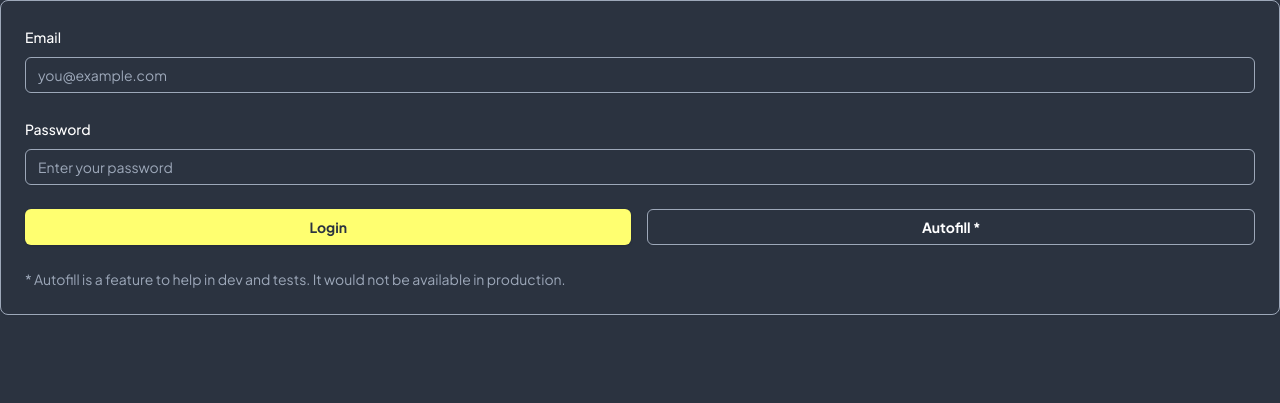
Test: LoginForm › displays generic API error message if no specific message from backend
This screenshot has width=1280, height=403.
Step 1. Type "wrong@example.com" into the field labelled "Email" → (640, 75), box [25, 57, 1255, 93]
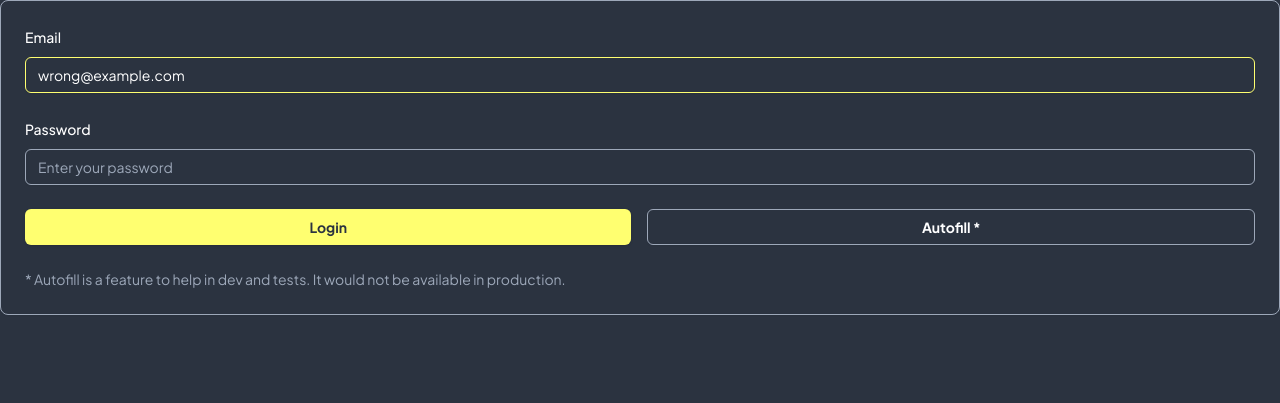
Step 2. Type "wrongpassword" into the password field labelled "Password" → (640, 167), box [25, 149, 1255, 185]
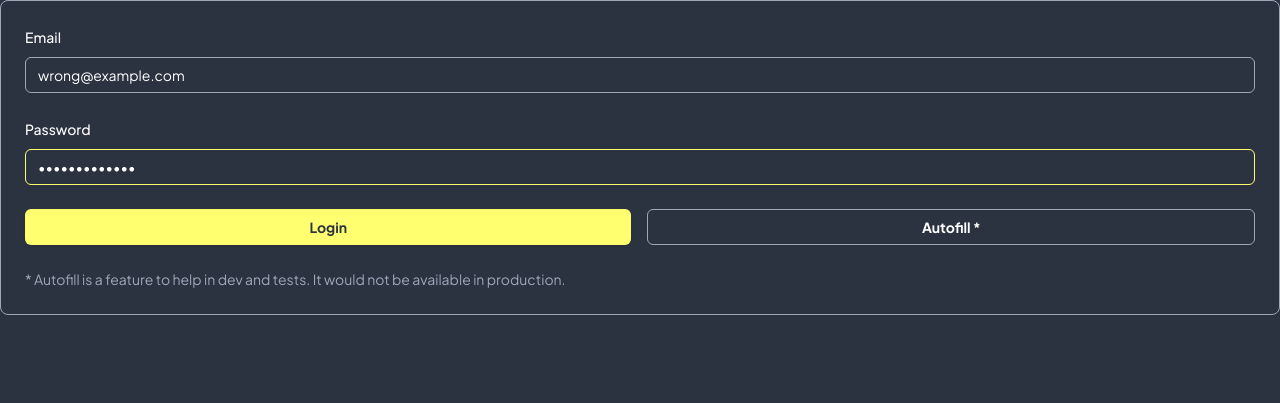
Step 3. Click the button "Login" → (328, 227), box [25, 209, 632, 245]
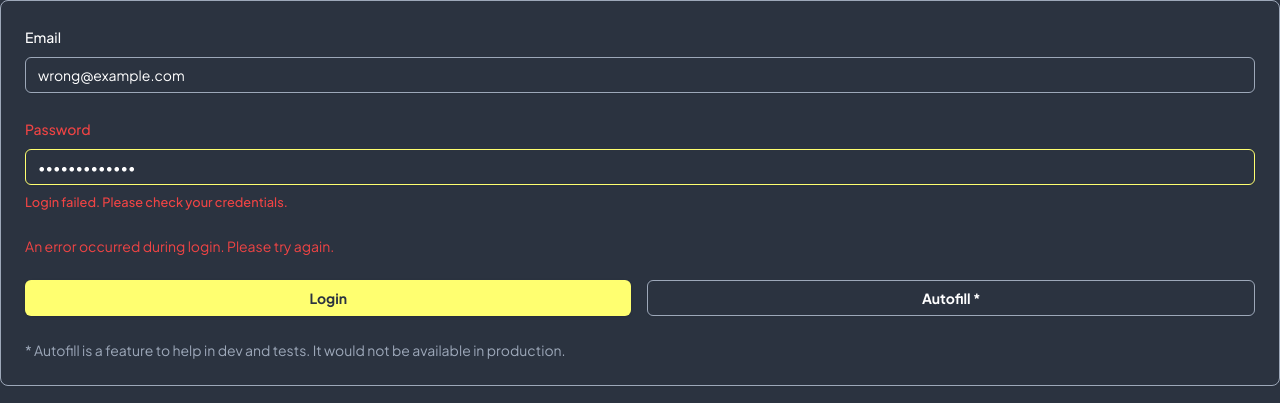
Expected: the text "Login failed. Please check your credentials." is shown, [25, 194, 288, 210]
